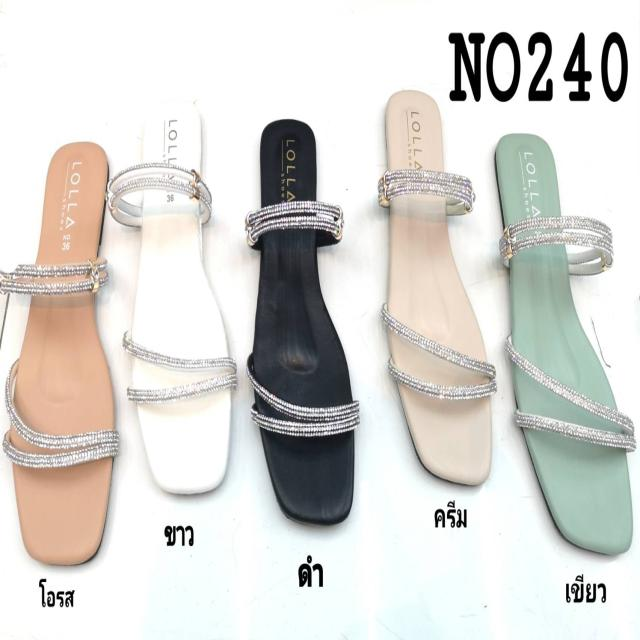black: (246, 120, 362, 525)
cream: (385, 96, 491, 483)
green: (500, 140, 636, 554)
orot: (12, 139, 112, 567)
white: (130, 101, 234, 494)
